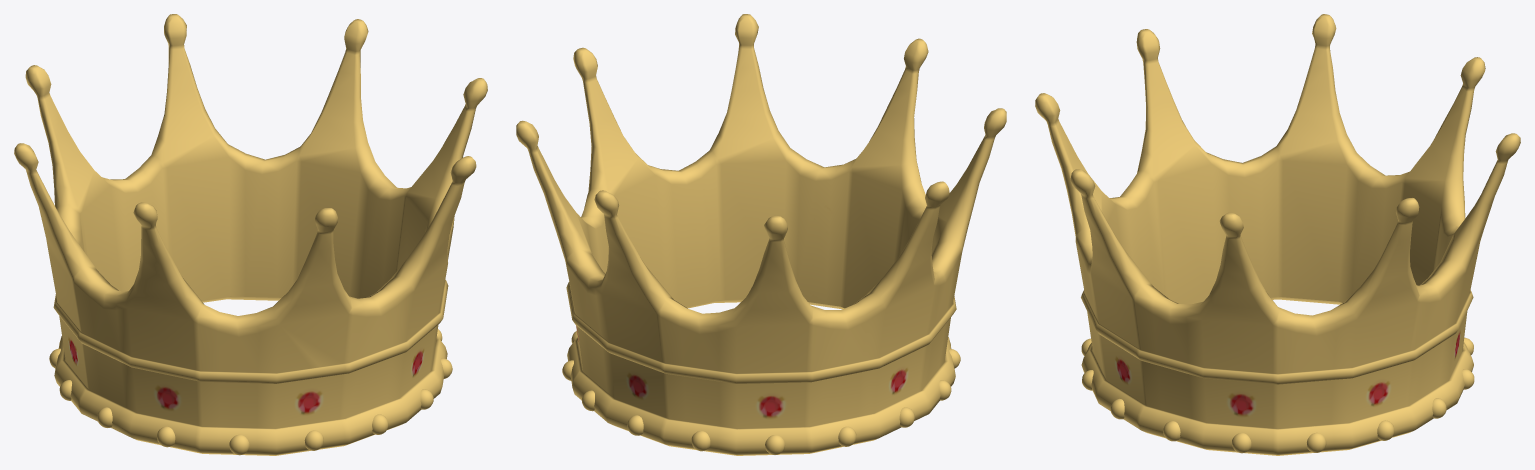
The model's file is crown.fbx.
3 renders of one model, left to right at view 1: azimuth 30°, elevation 25°; view 2: azimuth 150°, elevation 25°; view 3: azimuth 270°, elevation 25°, orthographic.
Parts seen in each view (by area): view 1: pCylinder21; view 2: pCylinder21; view 3: pCylinder21.
Part boxes in pixels (x1,y1,x2,y2): pCylinder21: [14, 14, 487, 455]; pCylinder21: [516, 14, 1006, 455]; pCylinder21: [1035, 14, 1520, 455].
Size of the model in its own units: 61.03 by 36.4 by 61.03.
Materials: 1 (1 with a texture image).
